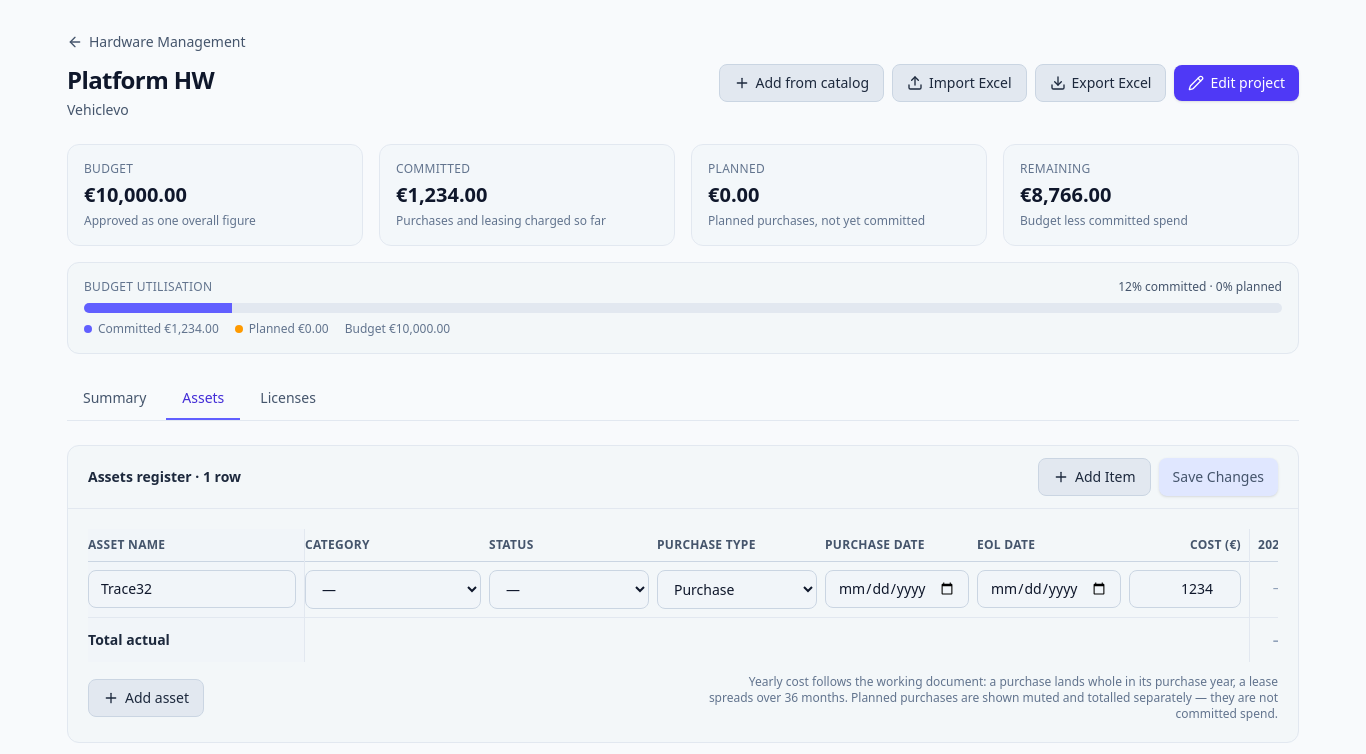
HwProjectPage › does not save a row that has data but no name
Clear the field showing "Trace32": (192, 589) [88, 570, 296, 608]
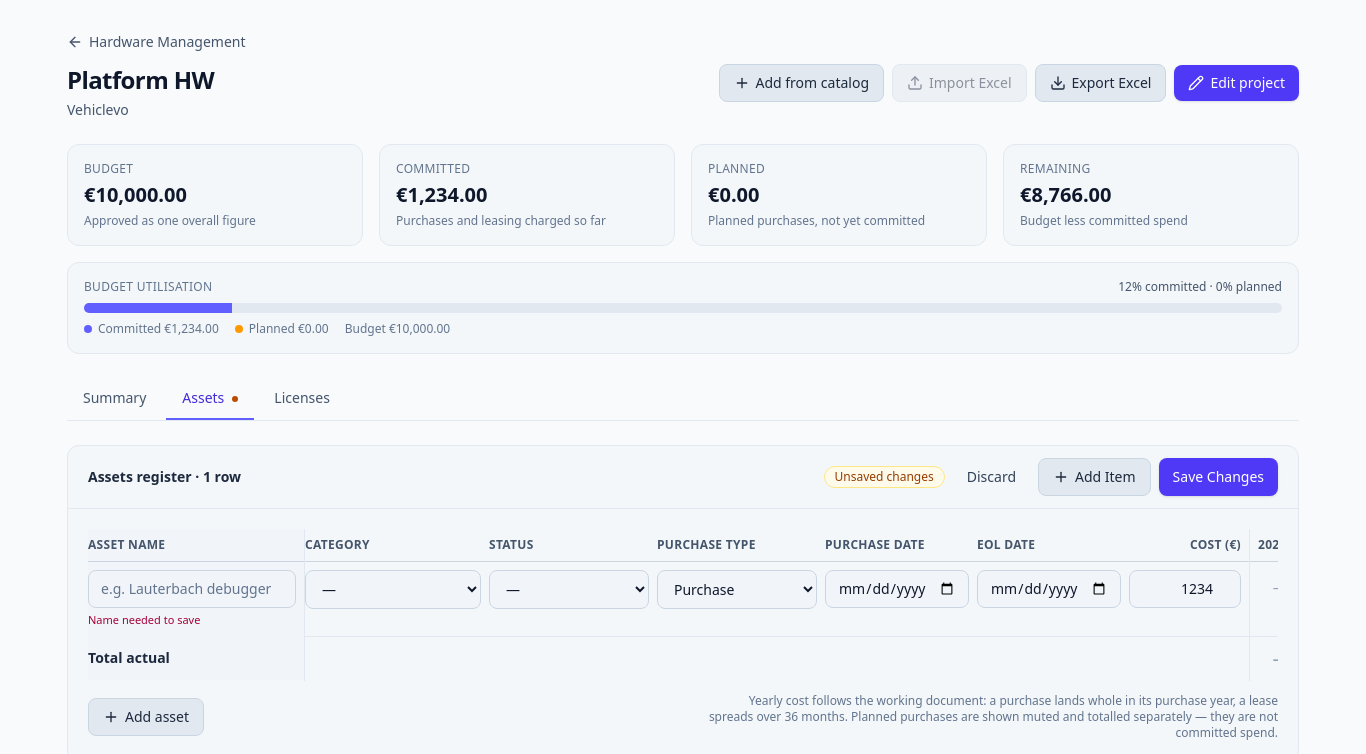
Click the button "Save Changes": click(1218, 477) [1159, 458, 1278, 496]
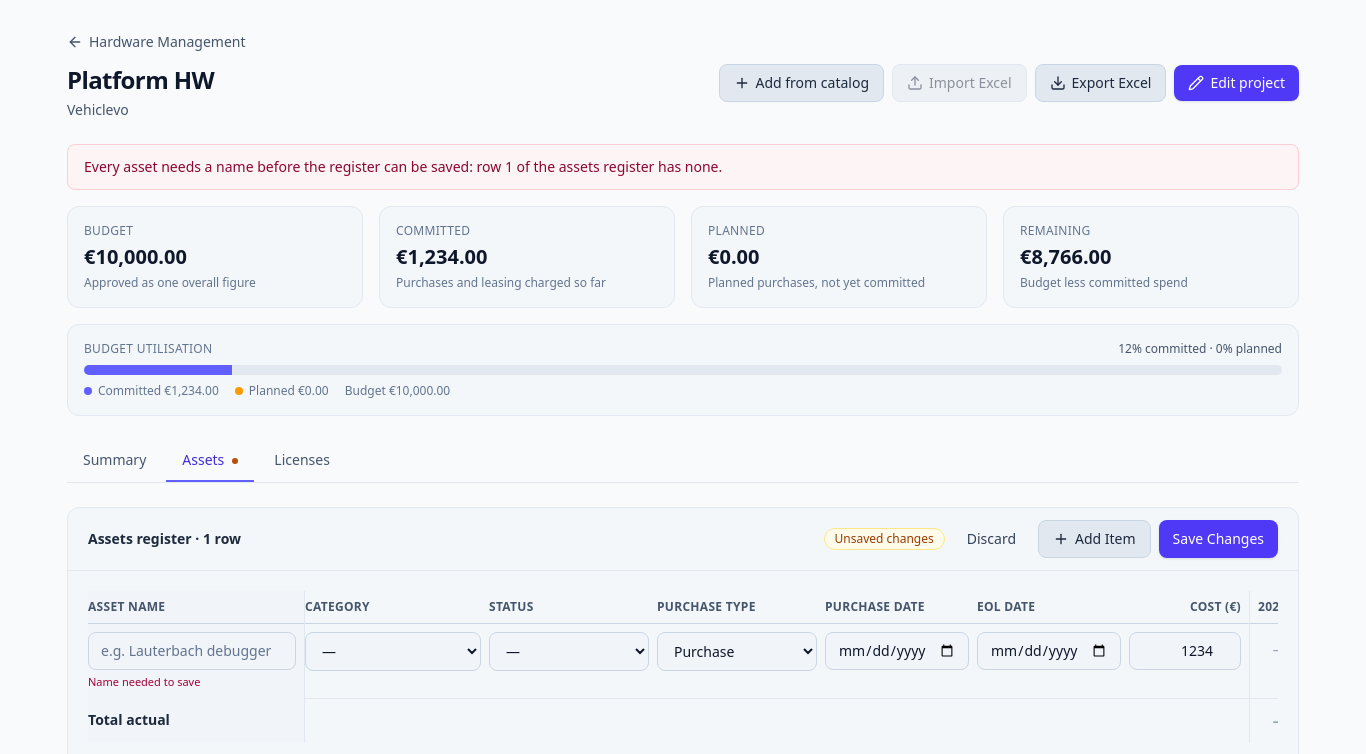
Check: the text "row 1 of the assets register has none" is shown, box [84, 157, 722, 176]
